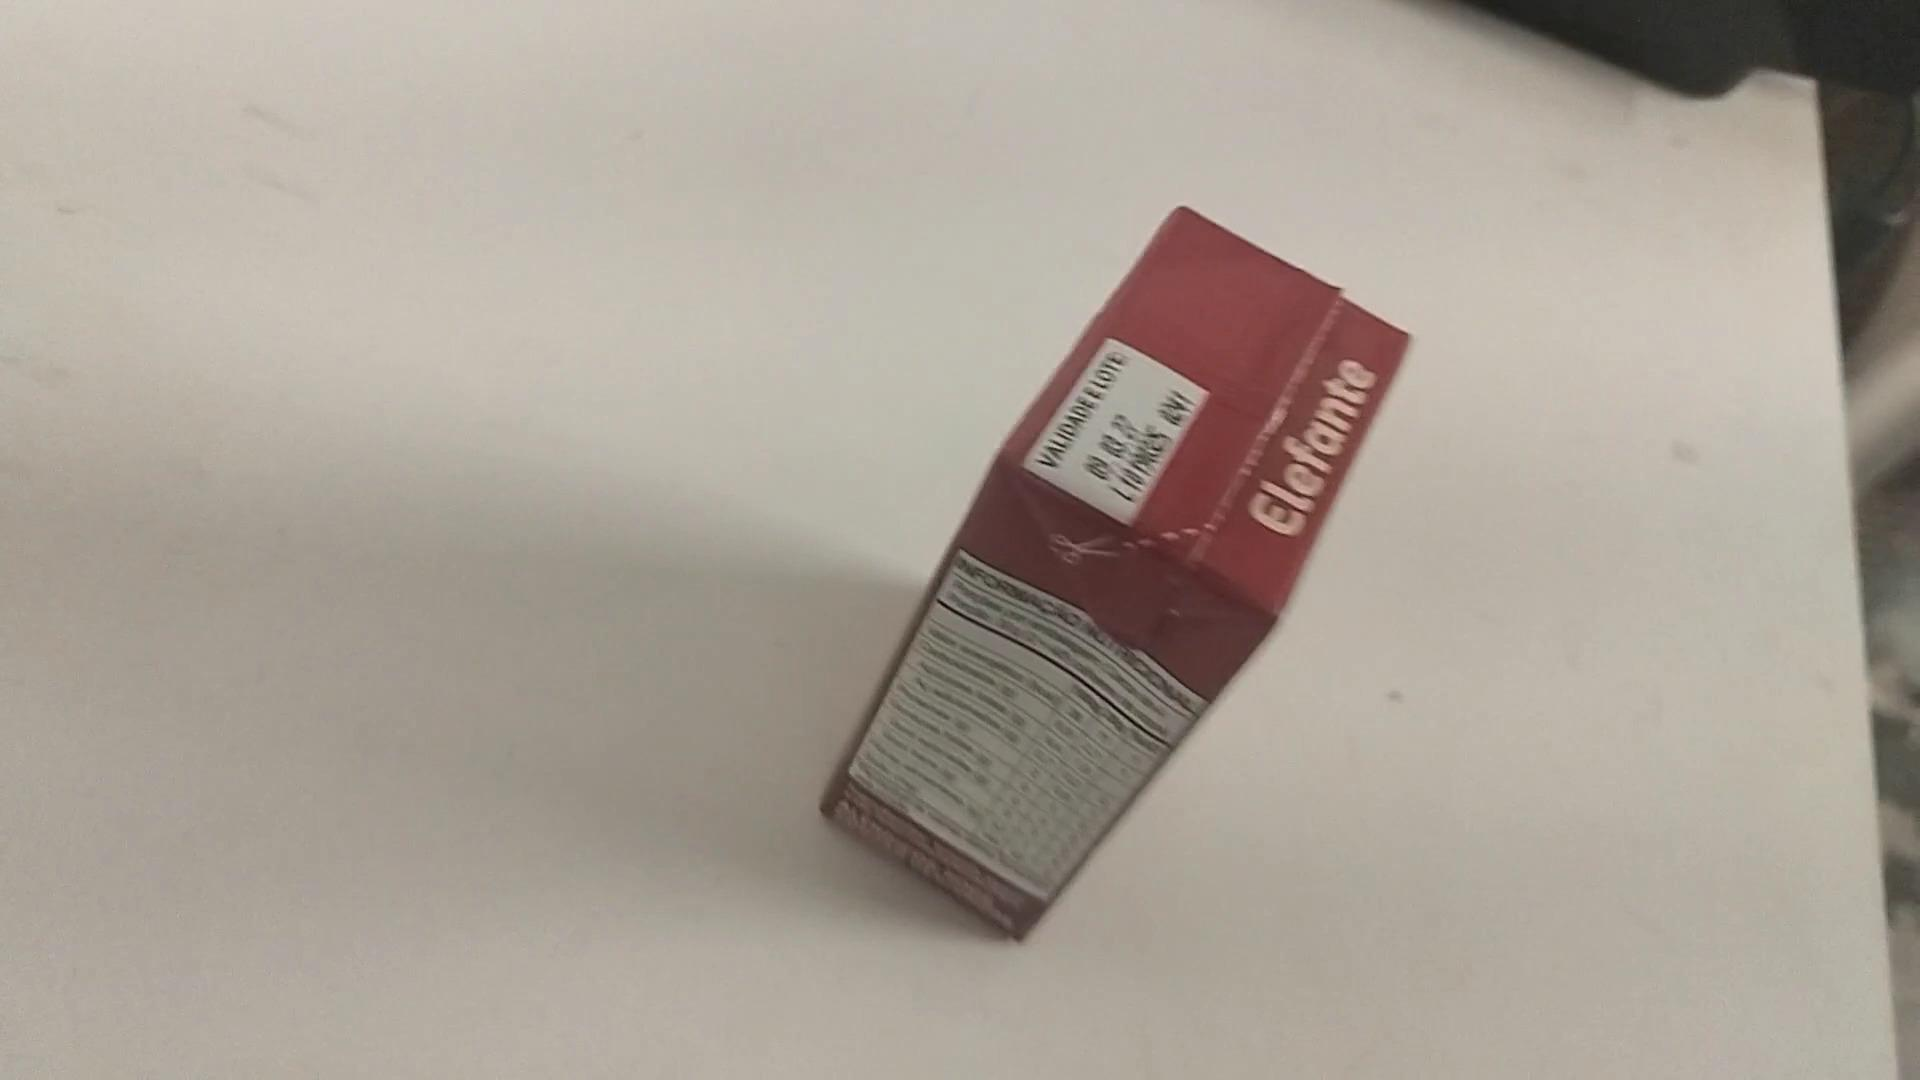tomate: (783, 194, 1424, 949)
